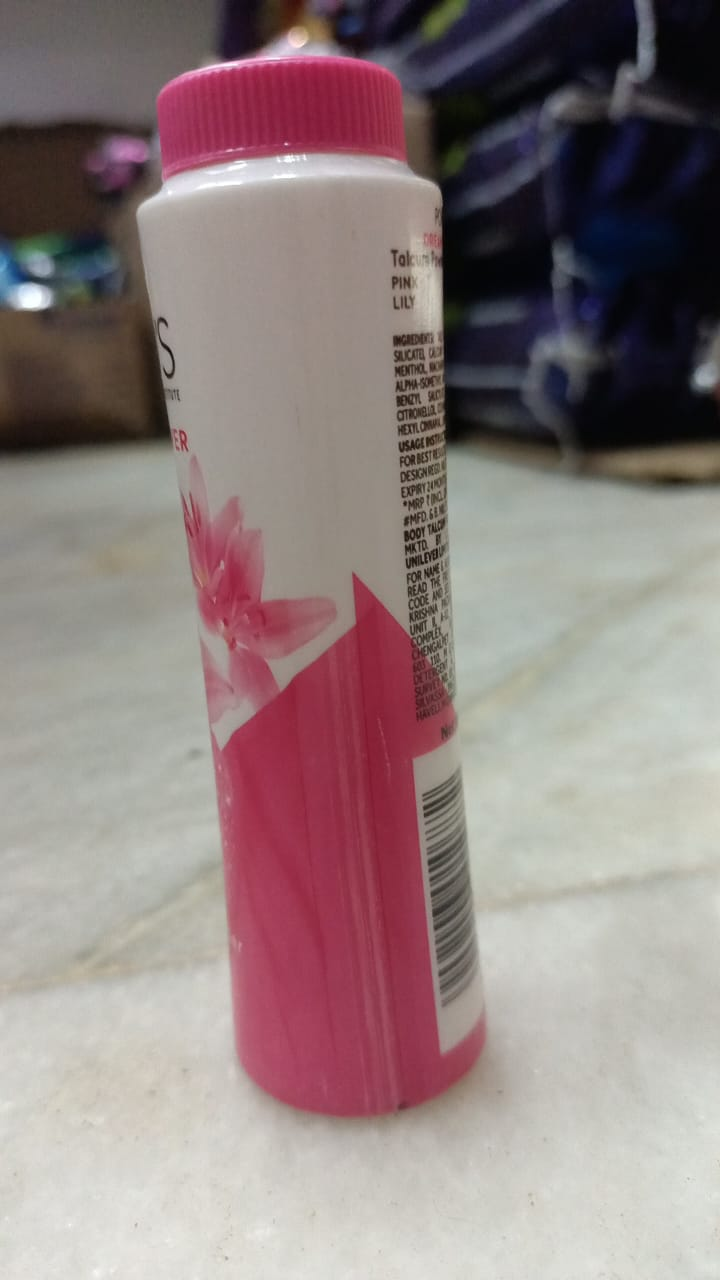ponds face powder: (84, 74, 630, 1137)
